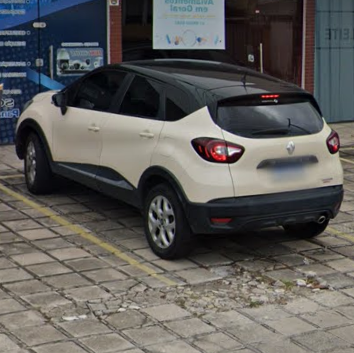car: (13, 43, 347, 263)
